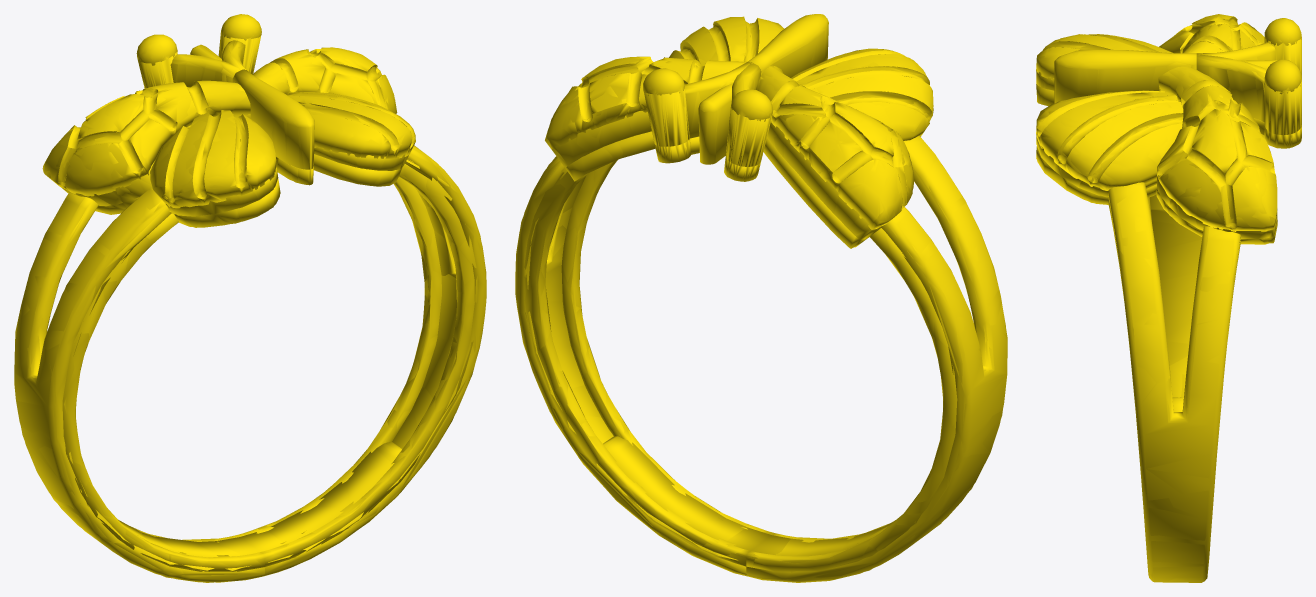
File: GLR-D000705677_hub.glb
3 renders of one model, left to right at view 1: azimuth 30°, elevation 25°; view 2: azimuth 150°, elevation 25°; view 3: azimuth 270°, elevation 25°, orthographic. The views are drawn at different scales.
Parts seen in each view (by area): view 1: highPolyMesh, lowPolyMesh; view 2: highPolyMesh, lowPolyMesh; view 3: highPolyMesh, lowPolyMesh.
Boxes of the visible parts, x1,y1,x2,y2 form: highPolyMesh: (14, 14, 486, 582); lowPolyMesh: (14, 14, 486, 582); highPolyMesh: (515, 14, 1007, 582); lowPolyMesh: (516, 14, 1007, 582); highPolyMesh: (1036, 14, 1301, 582); lowPolyMesh: (1036, 14, 1301, 581).
Bounding box in the file's own units: 0.0192 × 0.0211 × 0.00982.
